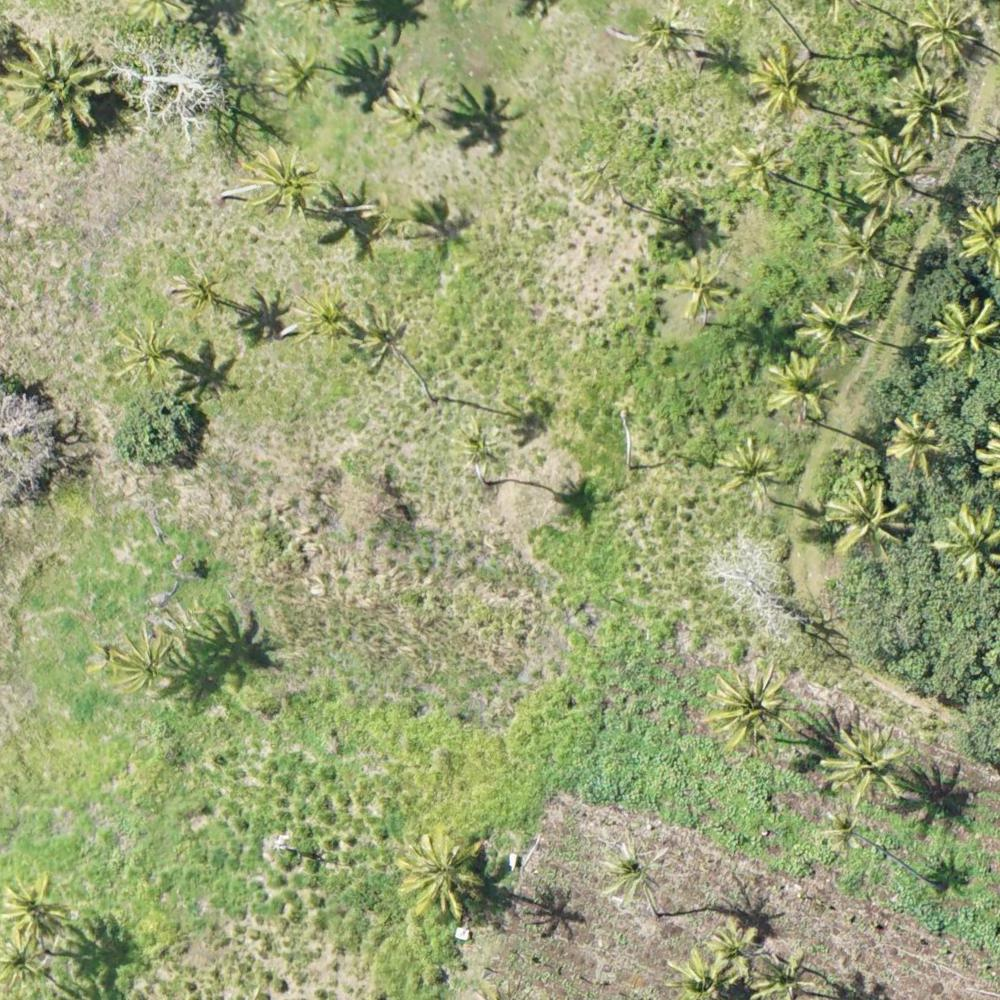Palm: (6, 31, 106, 135), (709, 658, 796, 750), (397, 833, 487, 918), (820, 483, 911, 561), (885, 65, 971, 144), (826, 723, 909, 804), (849, 128, 926, 208), (103, 621, 183, 696), (821, 208, 897, 283), (716, 438, 789, 512), (905, 1, 986, 66), (797, 293, 875, 360), (929, 299, 1000, 369), (751, 44, 816, 119), (1, 871, 70, 940), (935, 505, 1000, 577), (245, 148, 312, 216), (447, 412, 512, 482), (768, 349, 835, 414), (597, 838, 667, 900), (671, 251, 735, 315), (115, 319, 177, 383), (295, 289, 358, 351), (753, 945, 824, 999), (355, 305, 412, 371), (886, 415, 948, 474), (668, 947, 738, 999), (639, 13, 700, 68), (728, 138, 786, 195), (388, 74, 441, 136), (264, 41, 323, 96), (1, 940, 54, 999), (166, 260, 222, 312), (820, 804, 868, 858)
